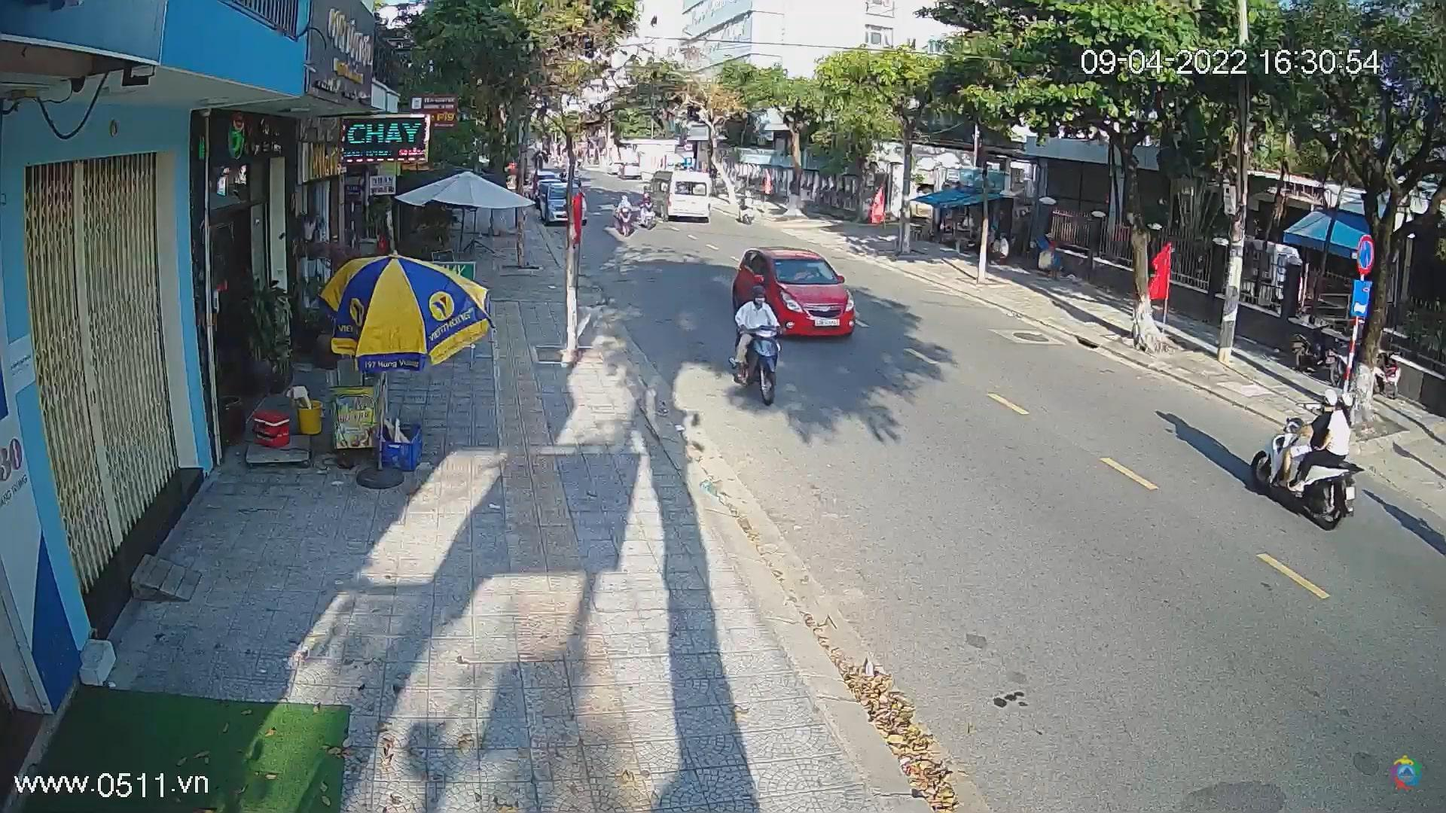car: (733, 248, 858, 339)
motorbike: (729, 322, 787, 414)
